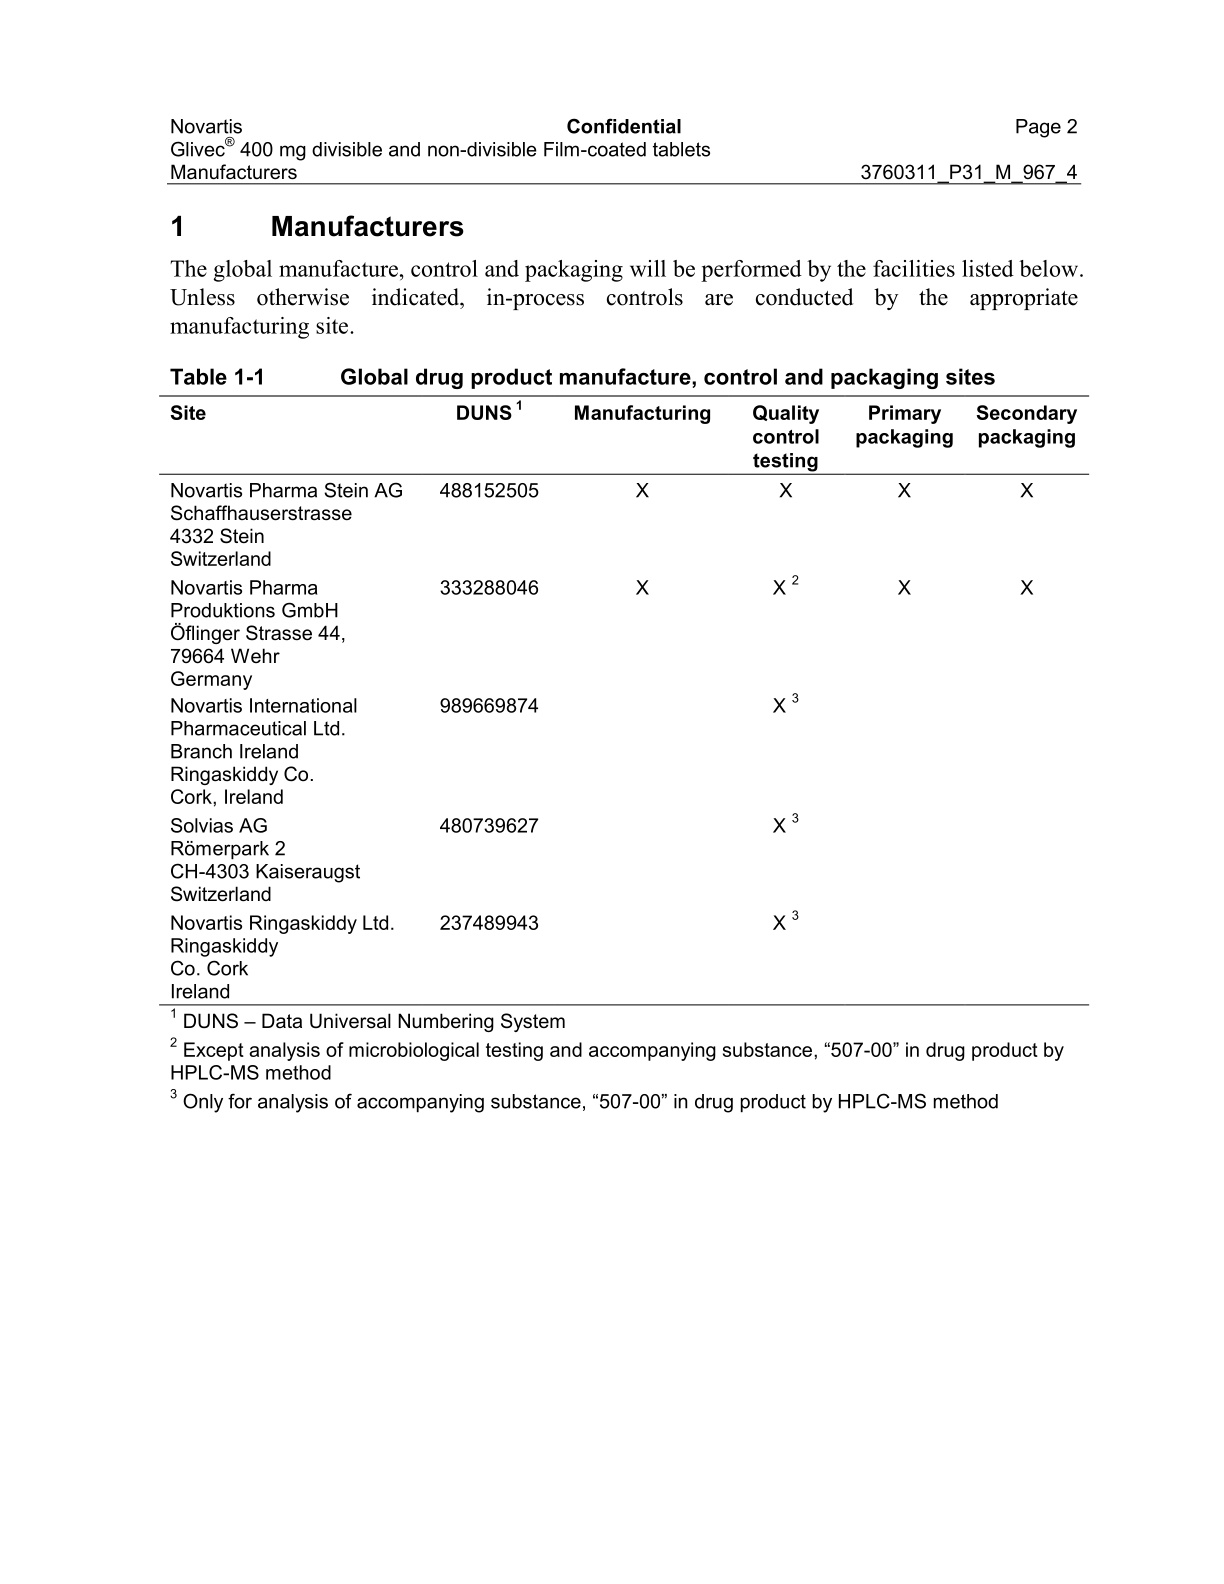partial_lined: (158, 393, 1092, 1008)
